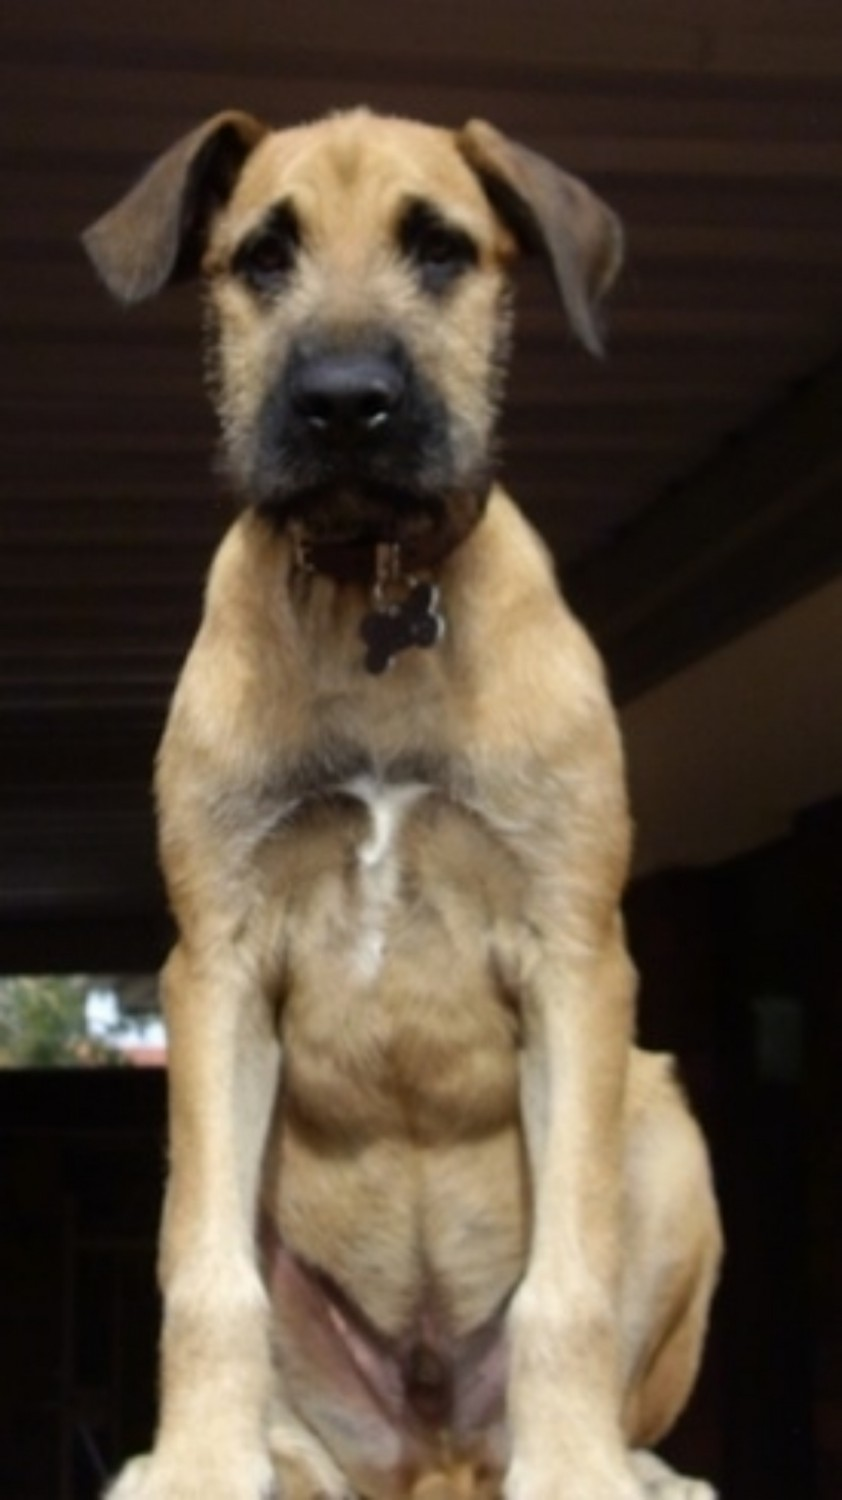other_dog_breed: (90, 104, 721, 1497)
